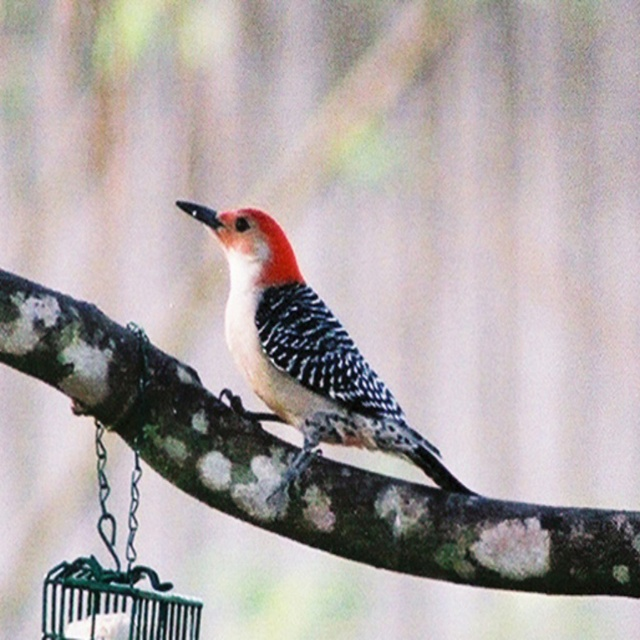Woodpecker: (175, 199, 479, 502)
